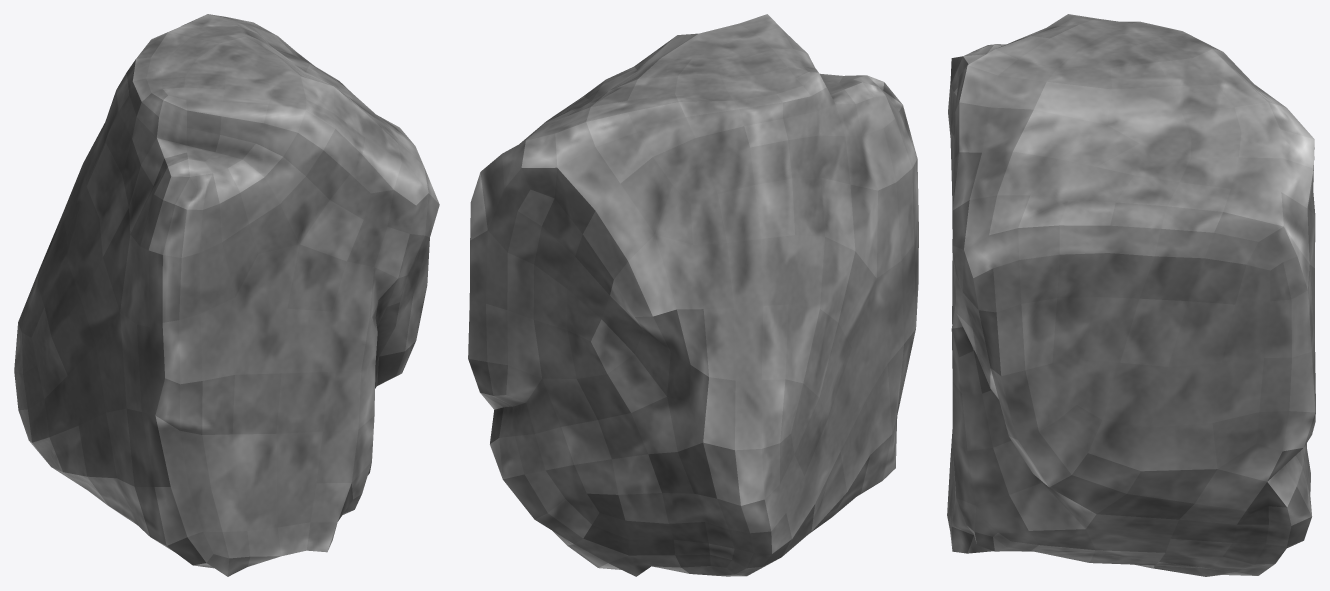
Rendered from ROCKROCK1.fbx.
The picture shows the model from 3 angles, left to right: view 1: azimuth 30°, elevation 25°; view 2: azimuth 150°, elevation 25°; view 3: azimuth 270°, elevation 25°; orthographic projection. The views are drawn at different scales.
Parts seen in each view (by area): view 1: Group64161; view 2: Group64161; view 3: Group64161.
Part boxes in pixels (<box>): Group64161: <box>14,14,439,576</box>; Group64161: <box>468,14,918,576</box>; Group64161: <box>947,14,1315,576</box>.
Size of the model in its own units: 2.04 by 3.08 by 2.03.
